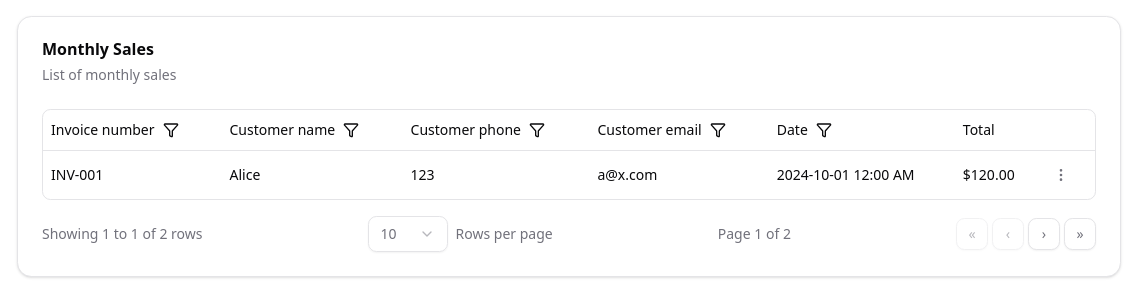
Monthly sales report pagination and filters › fetches next page when navigating pagination
This screenshot has width=1139, height=295.
Check: the text "INV-001" is shown, box top-left (43, 150), bottom-right (222, 198)
What coordinates should you click on to do the following:
click the button "›"
I would click on:
 (1044, 234)
Its box is top-left (1028, 218), bottom-right (1060, 250).
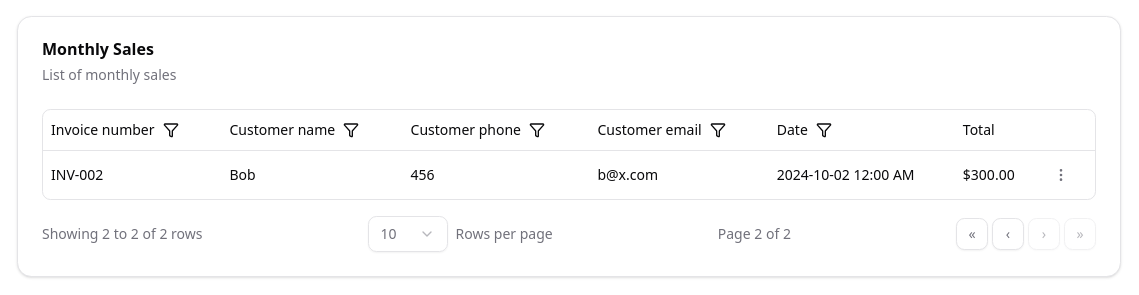
Check: the text "INV-001" is gone
Check: the text "INV-002" is shown, box top-left (43, 150), bottom-right (222, 198)
